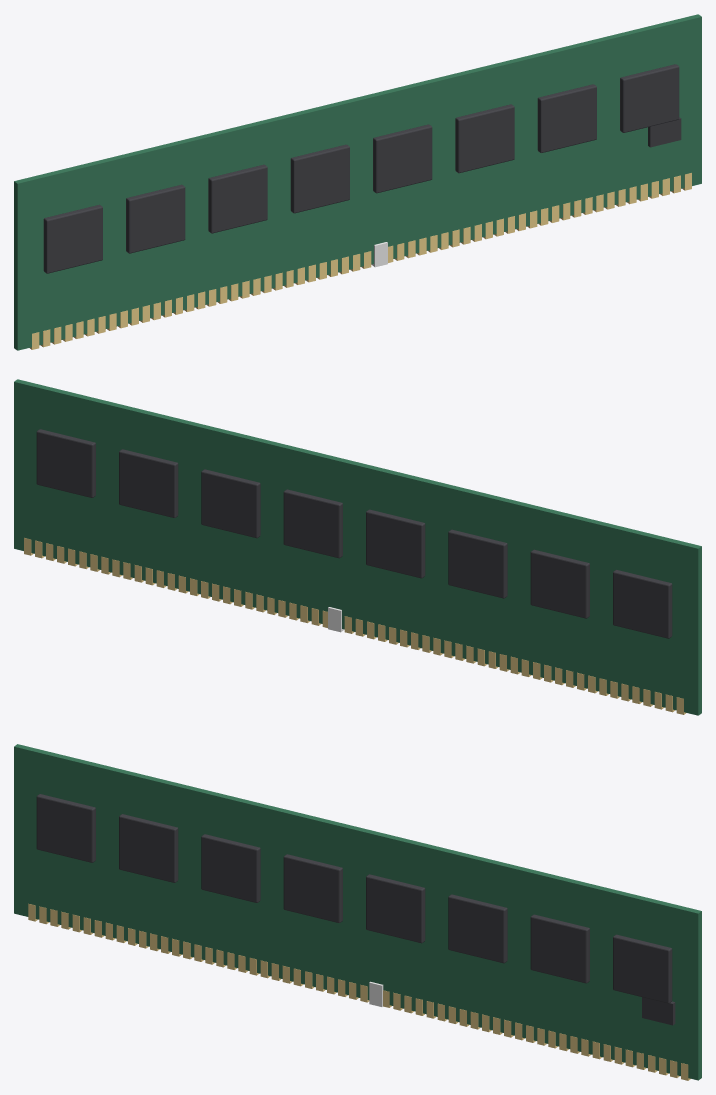
The model's file is dimm.glb.
3 views of the same model, one above another, from view 1: azimuth 30°, elevation 25°; view 2: azimuth 150°, elevation 25°; view 3: azimuth 330°, elevation 25° (orthographic).
Visible parts, largest first — view 1: pcb, chip1, chip4, chip2, chip5, chip3, chip0, chip6, chip7, spd; view 2: pcb, chipb1, chipb4, chipb2, chipb5, chipb3, chipb0, chipb6, chipb7; view 3: pcb, chip0, chip5, chip6, chip2, chip4, chip7, chip3, chip1, spd.
Part boxes in pixels (x1,y1,x2,y2): pcb: (14, 14, 701, 350); chip1: (126, 184, 185, 253); chip4: (373, 124, 432, 193); chip2: (208, 164, 267, 233); chip5: (455, 104, 514, 173); chip3: (290, 144, 349, 213); chip0: (43, 204, 102, 273); chip6: (537, 84, 596, 152); chip7: (620, 64, 679, 132); spd: (648, 117, 681, 147); pcb: (14, 379, 701, 715); chipb1: (530, 549, 589, 618); chipb4: (283, 489, 342, 558); chipb2: (448, 529, 507, 598); chipb5: (201, 469, 260, 538); chipb3: (366, 509, 425, 578); chipb0: (613, 569, 672, 638); chipb6: (119, 449, 178, 517); chipb7: (36, 429, 95, 497); pcb: (14, 744, 701, 1080); chip0: (36, 794, 95, 862); chip5: (448, 894, 507, 963); chip6: (530, 914, 589, 983); chip2: (201, 834, 260, 902); chip4: (366, 874, 425, 943); chip7: (613, 934, 672, 1003); chip3: (283, 854, 342, 922); chip1: (119, 814, 178, 882); spd: (642, 997, 675, 1025).
Size of the model in its own units: 13.3 by 3.15 by 0.36.
